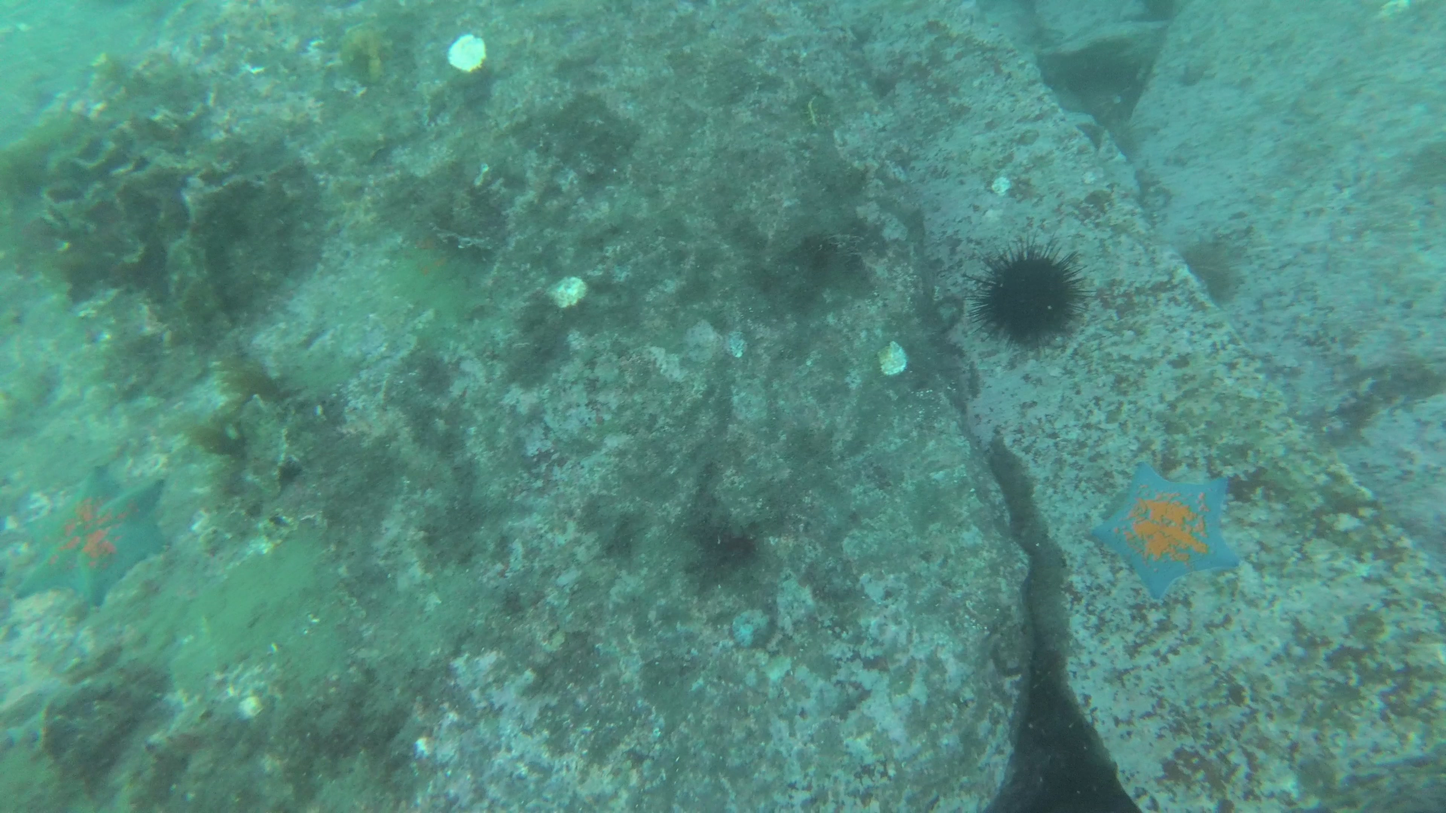holothurian: (1092, 452, 1248, 597), (17, 461, 164, 601)
starfish: (970, 246, 1084, 340)
